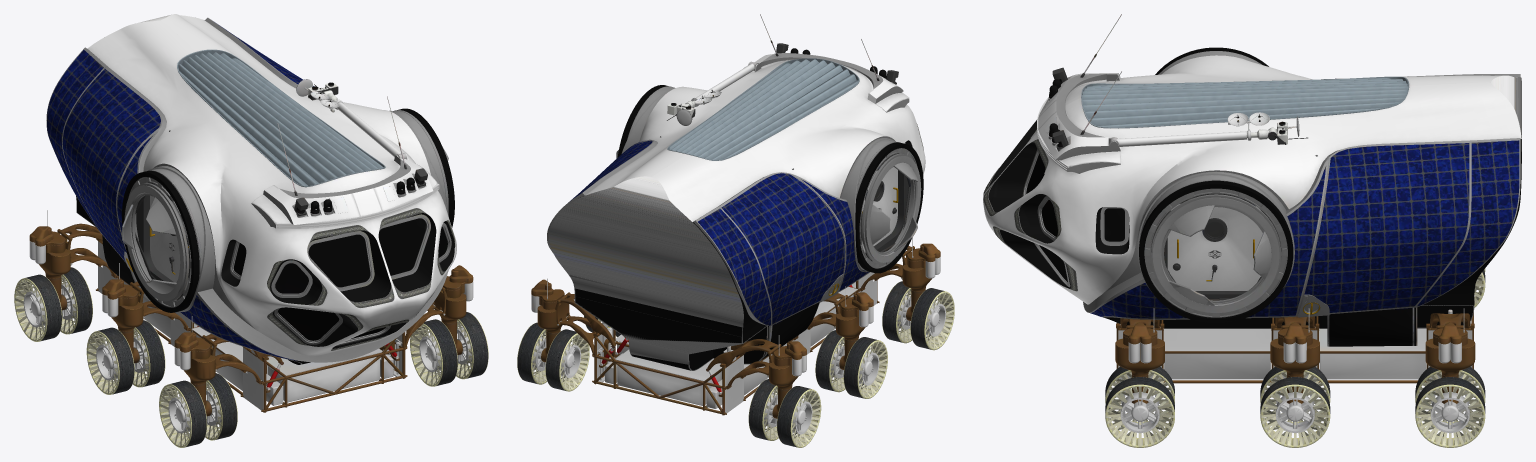
The model's file is rover-full.glb.
3 renders of one model, left to right at view 1: azimuth 30°, elevation 25°; view 2: azimuth 150°, elevation 25°; view 3: azimuth 270°, elevation 25°, orthographic. The views are drawn at different scales.
Parts seen in each view (by area): view 1: MMSEV; view 2: MMSEV; view 3: MMSEV.
Part boxes in pixels (box(x1,y1,x2,y2)): MMSEV: box(14, 14, 488, 447); MMSEV: box(517, 14, 954, 447); MMSEV: box(983, 14, 1521, 447).
Bounding box in the file's own units: 4.04 × 3.97 × 5.91.
1 material, 1 textured.
